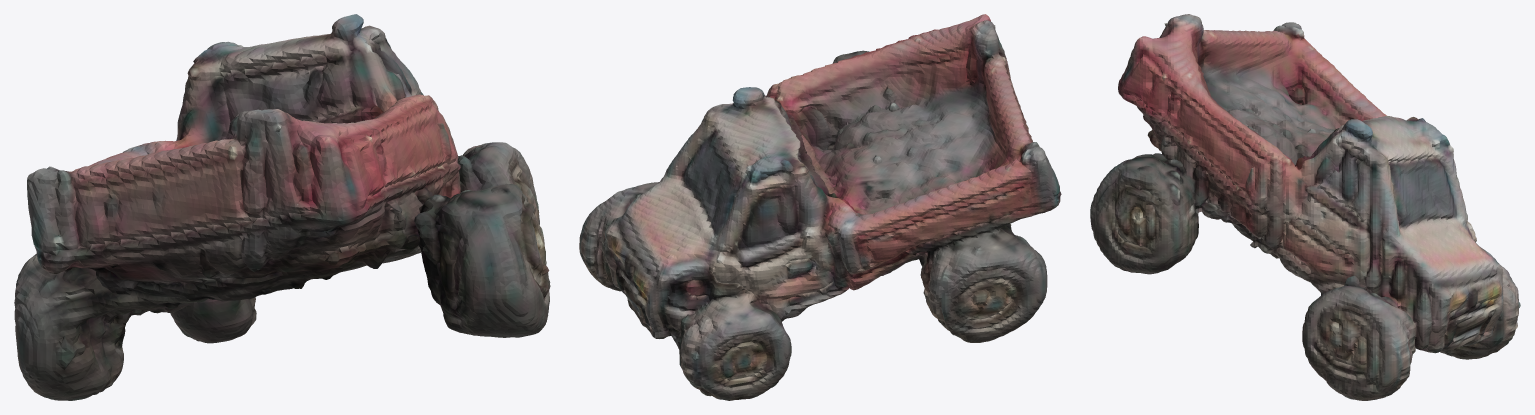
The model's file is recovery-rover.glb.
3 renders of one model, left to right at view 1: azimuth 30°, elevation 25°; view 2: azimuth 150°, elevation 25°; view 3: azimuth 270°, elevation 25°, orthographic. The views are drawn at different scales.
Visible parts, largest first — view 1: world; view 2: world; view 3: world.
Boxes of the visible parts, x1,y1,x2,y2 form: world: [14, 14, 550, 400]; world: [579, 14, 1061, 400]; world: [1090, 14, 1520, 400].
Size of the model in its own units: 1.04 by 0.6981 by 0.9448.
